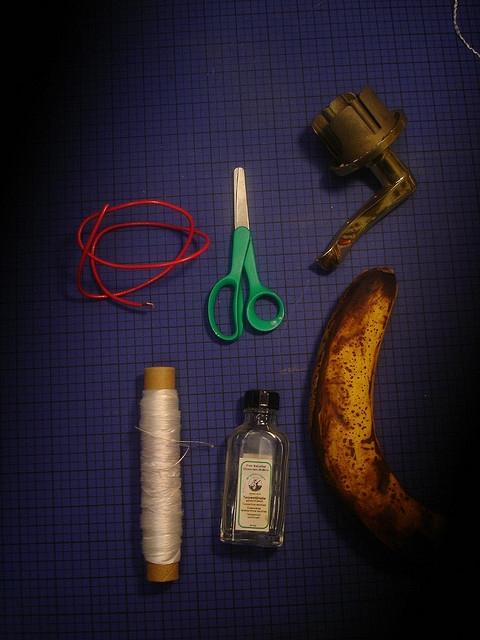banana: (308, 268, 465, 568)
